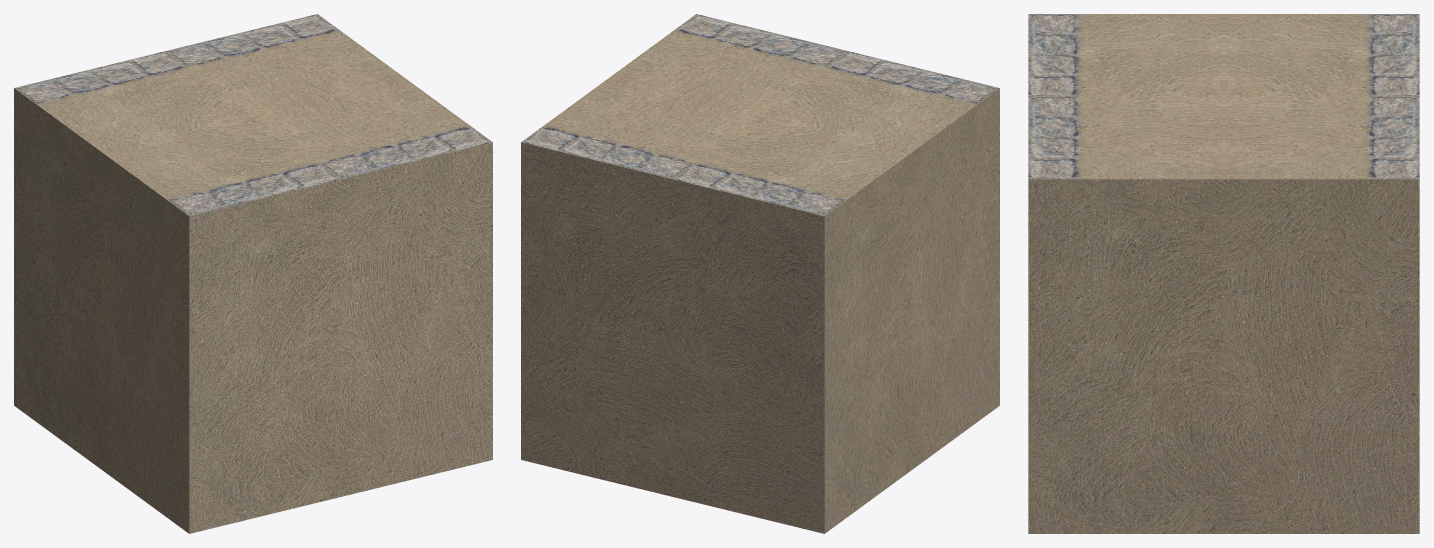
File: BlockNormalStraight.fbx
3 views of the same model, side by side, from view 1: azimuth 30°, elevation 25°; view 2: azimuth 150°, elevation 25°; view 3: azimuth 270°, elevation 25° (orthographic). The views are drawn at different scales.
Parts seen in each view (by area): view 1: blockNormalStraight; view 2: blockNormalStraight; view 3: blockNormalStraight.
Boxes of the visible parts, left/top/right/bottom form: blockNormalStraight: left=14, top=14, right=492, bottom=533; blockNormalStraight: left=521, top=14, right=999, bottom=533; blockNormalStraight: left=1028, top=14, right=1419, bottom=533.
Bounding box in the file's own units: 100 × 100 × 100.
